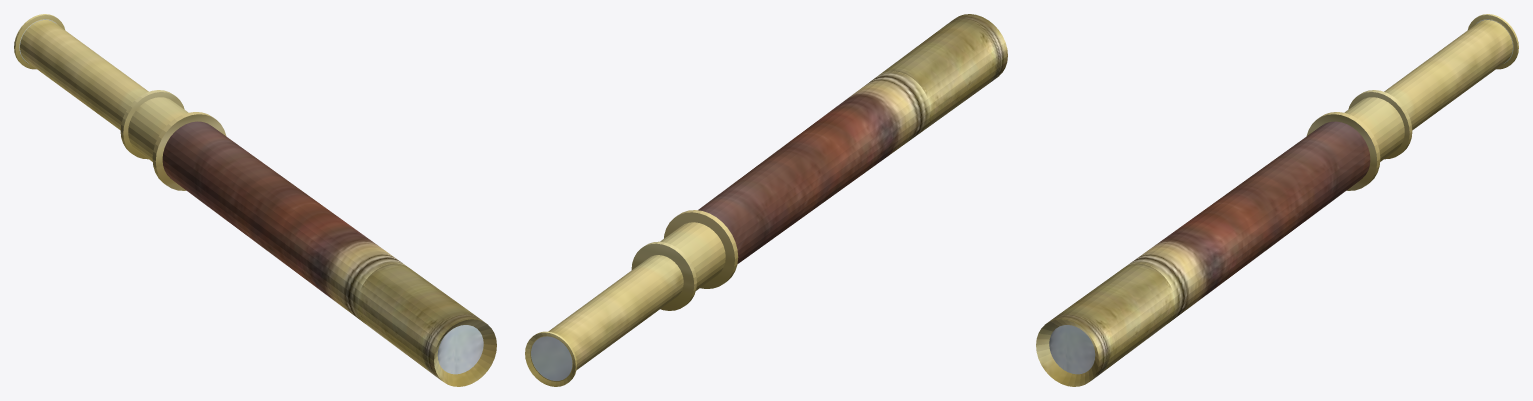
File: luneta.fbx
The picture shows the model from 3 angles, left to right: view 1: azimuth 30°, elevation 25°; view 2: azimuth 150°, elevation 25°; view 3: azimuth 330°, elevation 25°; orthographic projection.
Visible parts, largest first — view 1: Circle; view 2: Circle; view 3: Circle.
Part boxes in pixels (x1,y1,x2,y2): Circle: [14, 14, 496, 386]; Circle: [525, 14, 1007, 386]; Circle: [1036, 14, 1518, 386].
Bounding box in the file's own units: 9.77 × 9.77 × 101.
1 material, 1 textured.
